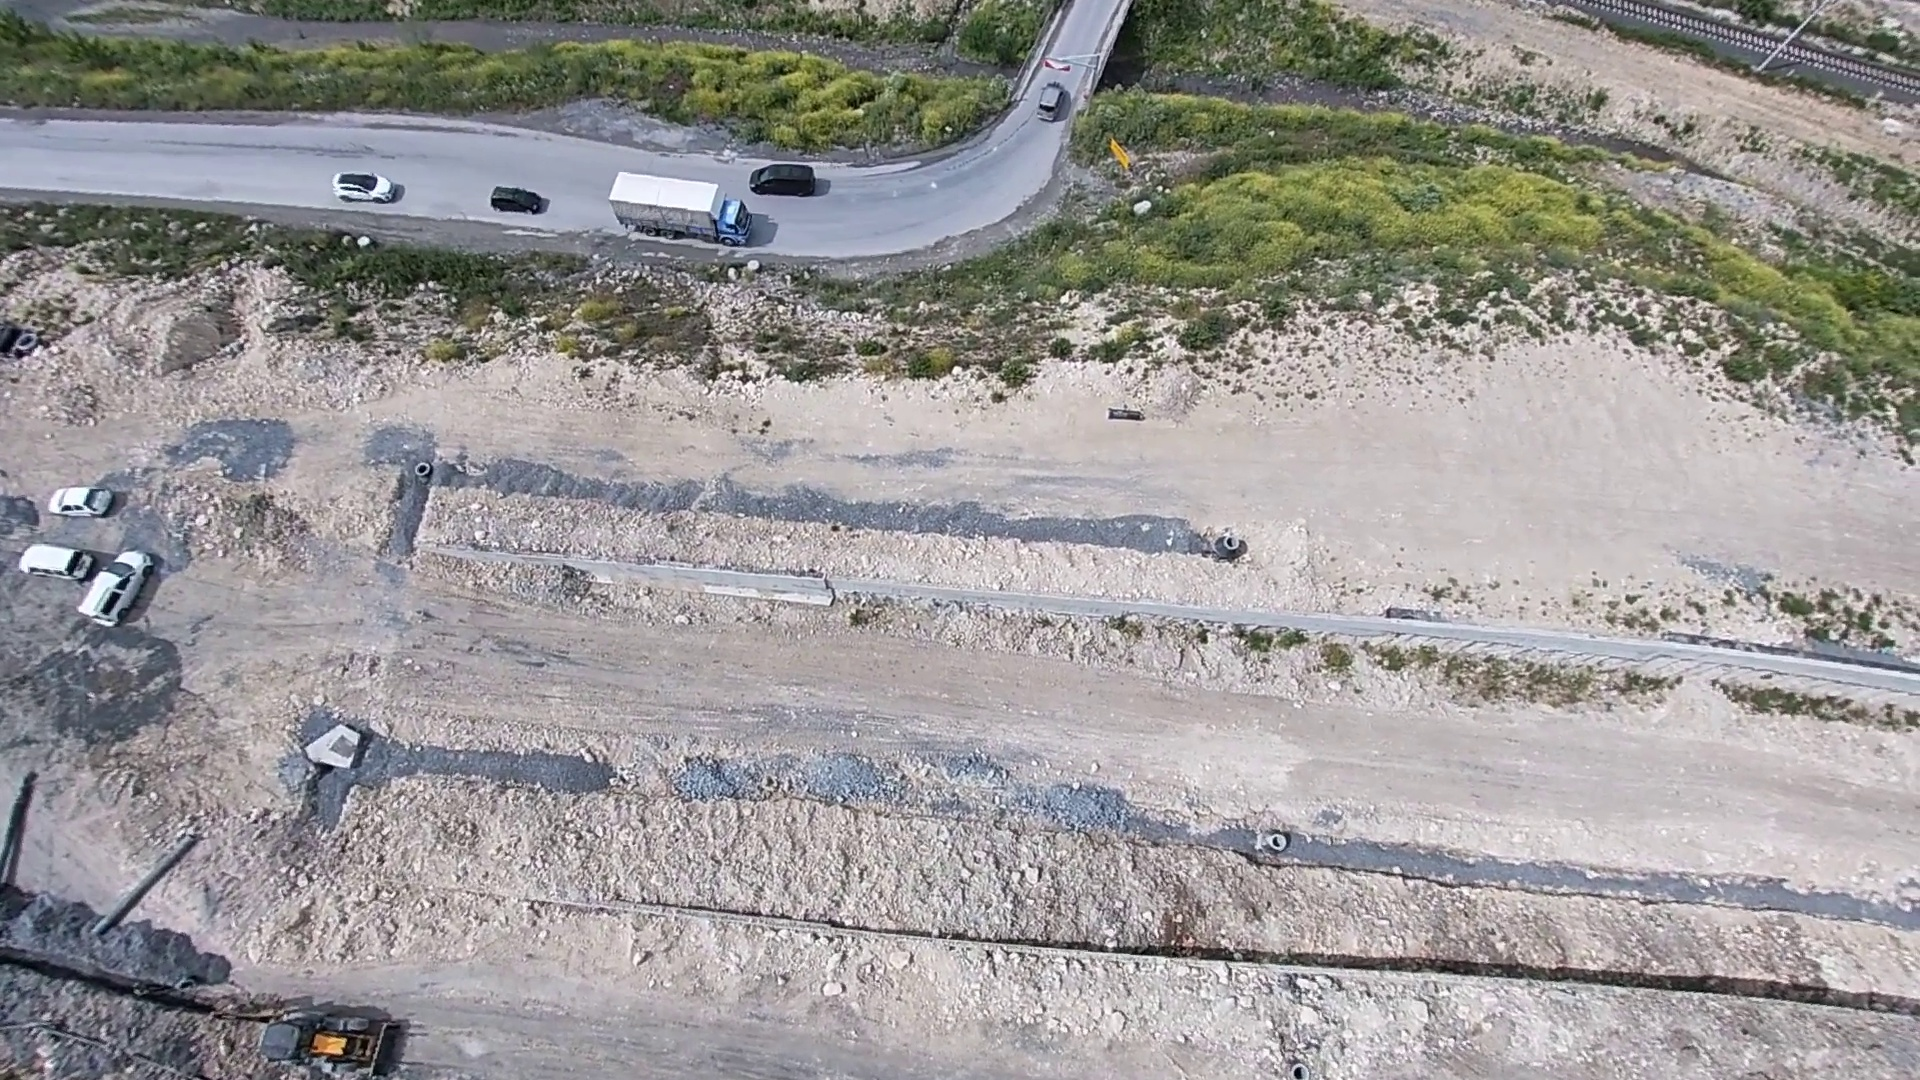arac: (593, 164, 765, 243), (258, 1007, 409, 1080), (69, 543, 164, 634), (13, 524, 84, 593), (37, 473, 121, 526), (746, 160, 823, 198), (481, 179, 545, 223), (328, 167, 398, 206), (1029, 78, 1071, 123)
